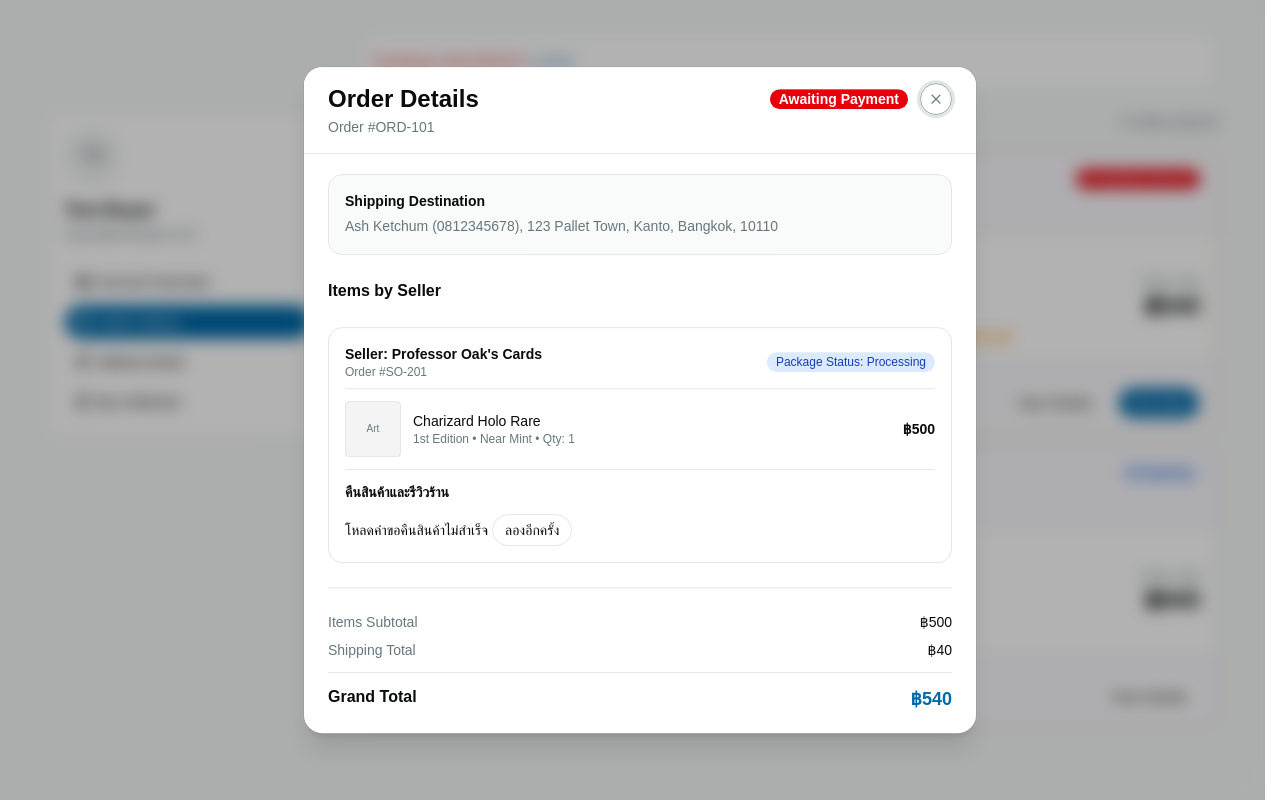
Test: OrderHistoryPage › opens the linked order details and closes without reopening the query link
Expected: the dialog is shown, [304, 67, 976, 733]
Click the button named "close". click: (936, 99)
box: [920, 83, 952, 115]
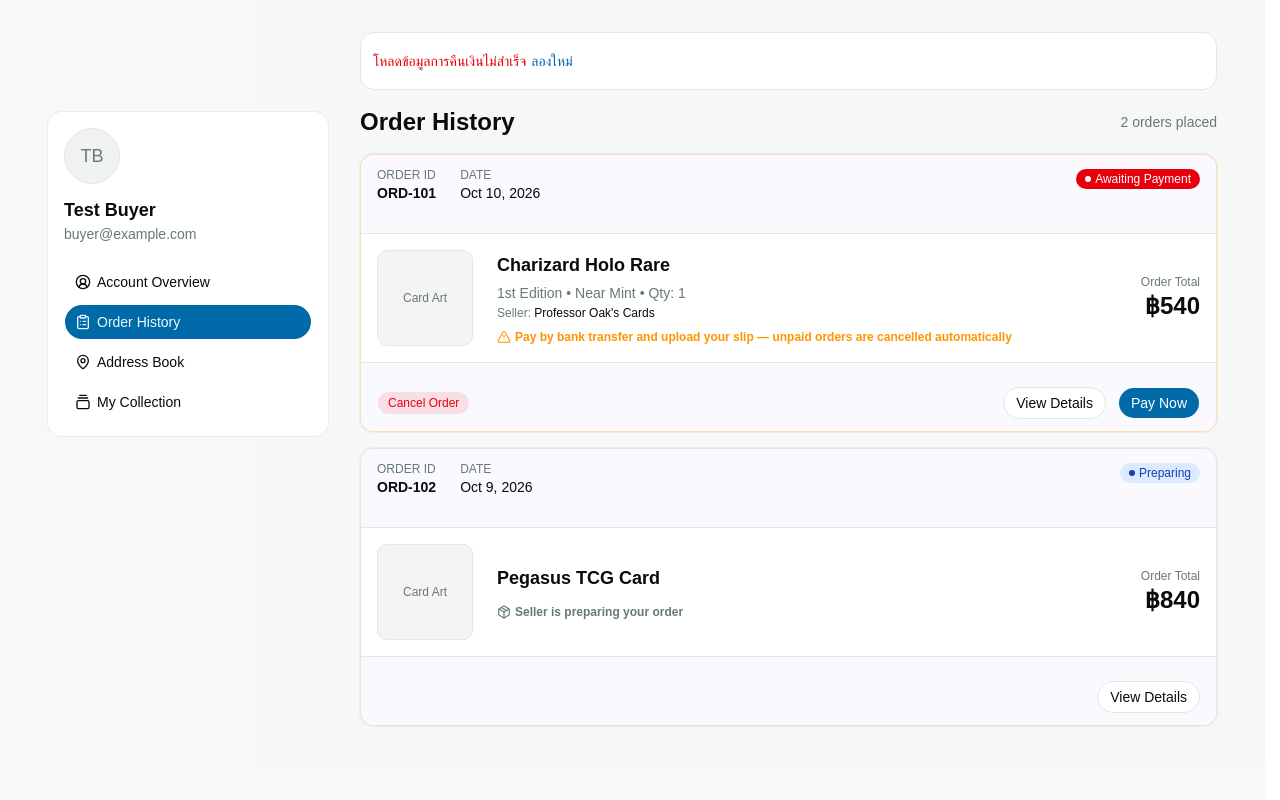
Expected: the dialog is gone
